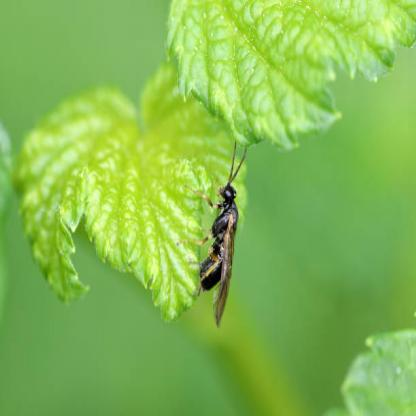sawfly: (181, 138, 246, 332)
